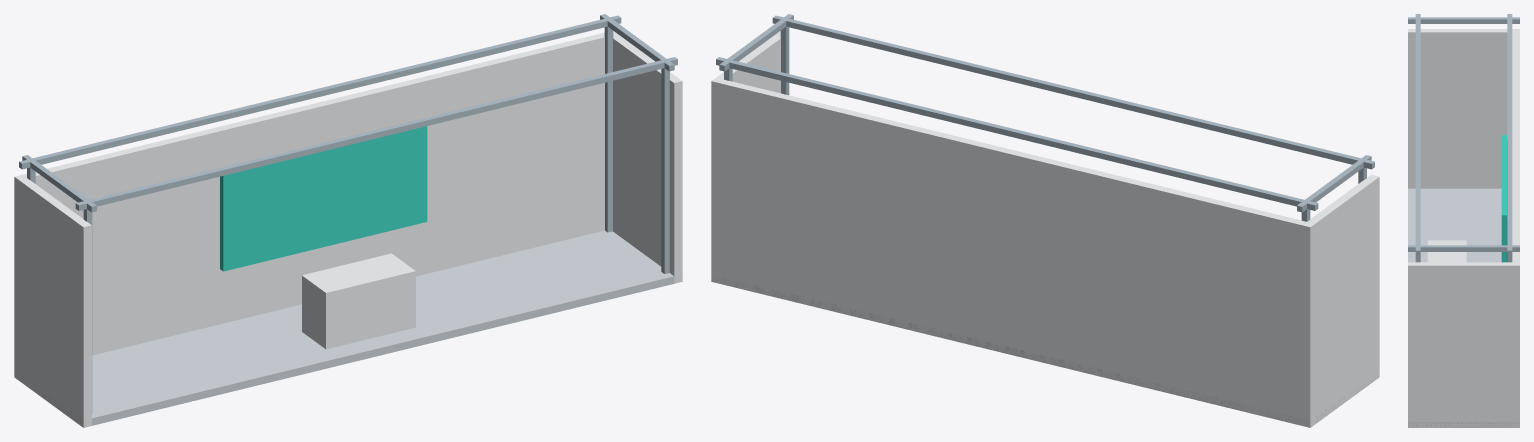
3 views of the same model, side by side, from view 1: azimuth 30°, elevation 25°; view 2: azimuth 150°, elevation 25°; view 3: azimuth 270°, elevation 25° (orthographic). The views are drawn at different scales.
Visible parts, largest first — view 1: Exhibition Booth Concept; view 2: Exhibition Booth Concept; view 3: Exhibition Booth Concept.
Boxes of the visible parts, bbox=[...] form: Exhibition Booth Concept: bbox=[14, 14, 682, 427]; Exhibition Booth Concept: bbox=[711, 14, 1379, 427]; Exhibition Booth Concept: bbox=[1408, 14, 1519, 427].
Size of the model in its own units: 10 by 3.49 by 2.
